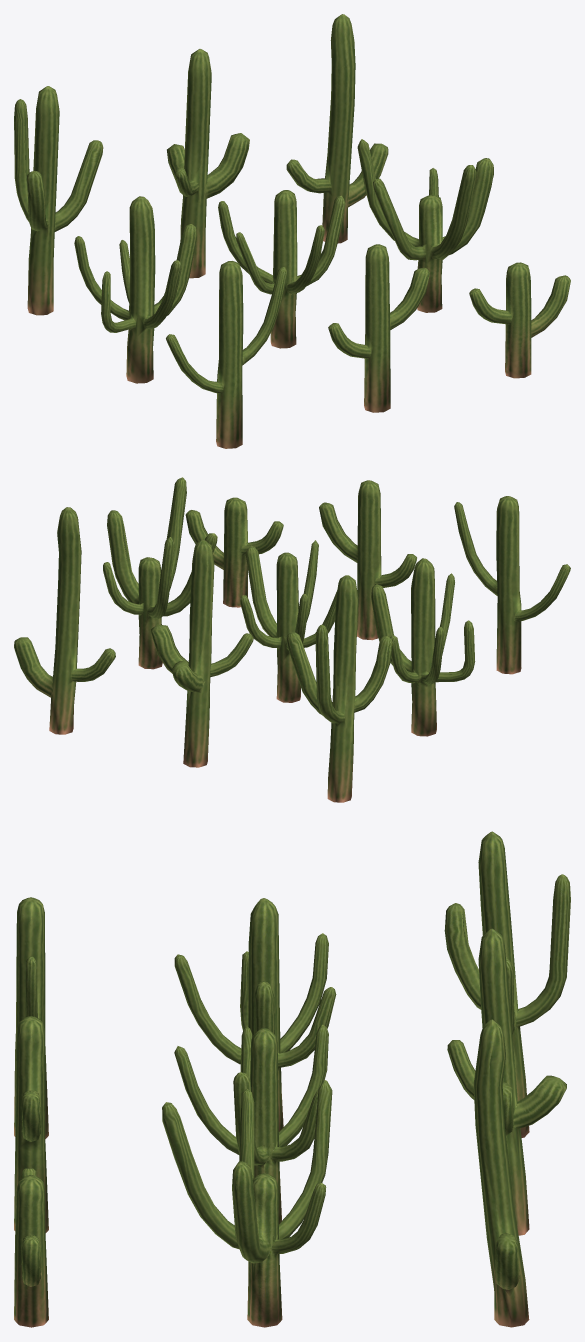
Rendered from cactus_pack.glb.
3 views of the same model, one above another, from view 1: azimuth 30°, elevation 25°; view 2: azimuth 150°, elevation 25°; view 3: azimuth 270°, elevation 25° (orthographic). The views are drawn at different scales.
Parts seen in each view (by area): view 1: cactus_9_cacturs_9_0, cactus_6_cacturs_6_0, cactus_4_cacturs_4_0, cactus_8_cacturs_8_0, cactus_3_cacturs_3_0, cactus_5_cacturs_5_0, cactus_7_cacturs_7_0, cactus_2_cacturs_2_0, cactus_1_cacturs_1_0; view 2: cactus_9_cacturs_9_0, cactus_6_cacturs_6_0, cactus_8_cacturs_8_0, cactus_7_cacturs_7_0, cactus_4_cacturs_4_0, cactus_5_cacturs_5_0, cactus_3_cacturs_3_0, cactus_2_cacturs_2_0, cactus_1_cacturs_1_0; view 3: cactus_4_cacturs_4_0, cactus_6_cacturs_6_0, cactus_5_cacturs_5_0, cactus_7_cacturs_7_0, cactus_9_cacturs_9_0, cactus_8_cacturs_8_0, cactus_2_cacturs_2_0, cactus_1_cacturs_1_0, cactus_3_cacturs_3_0.
Part boxes in pixels (left/top/right/bottom): cactus_9_cacturs_9_0: left=14, top=86, right=103, bottom=315; cactus_6_cacturs_6_0: left=74, top=196, right=196, bottom=383; cactus_4_cacturs_4_0: left=357, top=139, right=493, bottom=312; cactus_8_cacturs_8_0: left=167, top=49, right=249, bottom=278; cactus_3_cacturs_3_0: left=166, top=261, right=287, bottom=448; cactus_5_cacturs_5_0: left=218, top=190, right=345, bottom=348; cactus_7_cacturs_7_0: left=286, top=14, right=388, bottom=243; cactus_2_cacturs_2_0: left=328, top=244, right=429, bottom=412; cactus_1_cacturs_1_0: left=469, top=262, right=570, bottom=378; cactus_9_cacturs_9_0: left=286, top=575, right=392, bottom=802; cactus_6_cacturs_6_0: left=371, top=558, right=475, bottom=736; cactus_8_cacturs_8_0: left=151, top=540, right=253, bottom=767; cactus_7_cacturs_7_0: left=14, top=507, right=115, bottom=734; cactus_4_cacturs_4_0: left=103, top=477, right=217, bottom=669; cactus_5_cacturs_5_0: left=240, top=540, right=337, bottom=702; cactus_3_cacturs_3_0: left=454, top=496, right=570, bottom=674; cactus_2_cacturs_2_0: left=319, top=480, right=416, bottom=640; cactus_1_cacturs_1_0: left=185, top=497, right=283, bottom=607; cactus_4_cacturs_4_0: left=162, top=1080, right=332, bottom=1327; cactus_6_cacturs_6_0: left=174, top=898, right=336, bottom=1131; cactus_5_cacturs_5_0: left=174, top=1024, right=328, bottom=1223; cactus_7_cacturs_7_0: left=473, top=1019, right=529, bottom=1327; cactus_9_cacturs_9_0: left=444, top=831, right=570, bottom=1137; cactus_8_cacturs_8_0: left=447, top=928, right=566, bottom=1235; cactus_2_cacturs_2_0: left=14, top=1016, right=48, bottom=1232; cactus_1_cacturs_1_0: left=14, top=1168, right=48, bottom=1327; cactus_3_cacturs_3_0: left=14, top=897, right=48, bottom=1138.
Size of the model in its own units: 7.66 by 4.12 by 6.94.
Materials: 9 (9 with a texture image).
